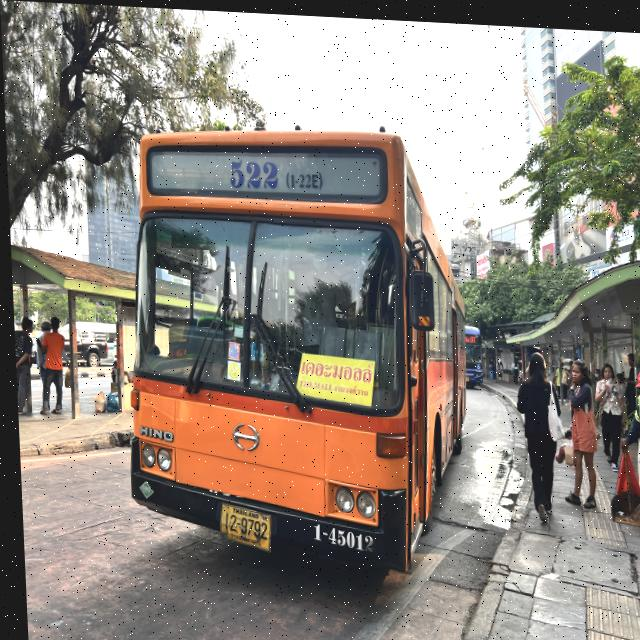BMTA-bus: (111, 105, 473, 588)
Bus-Line-Number: (220, 152, 325, 194)
Destination-Sign-Extra-Bus-Expressway: (296, 351, 372, 405)
